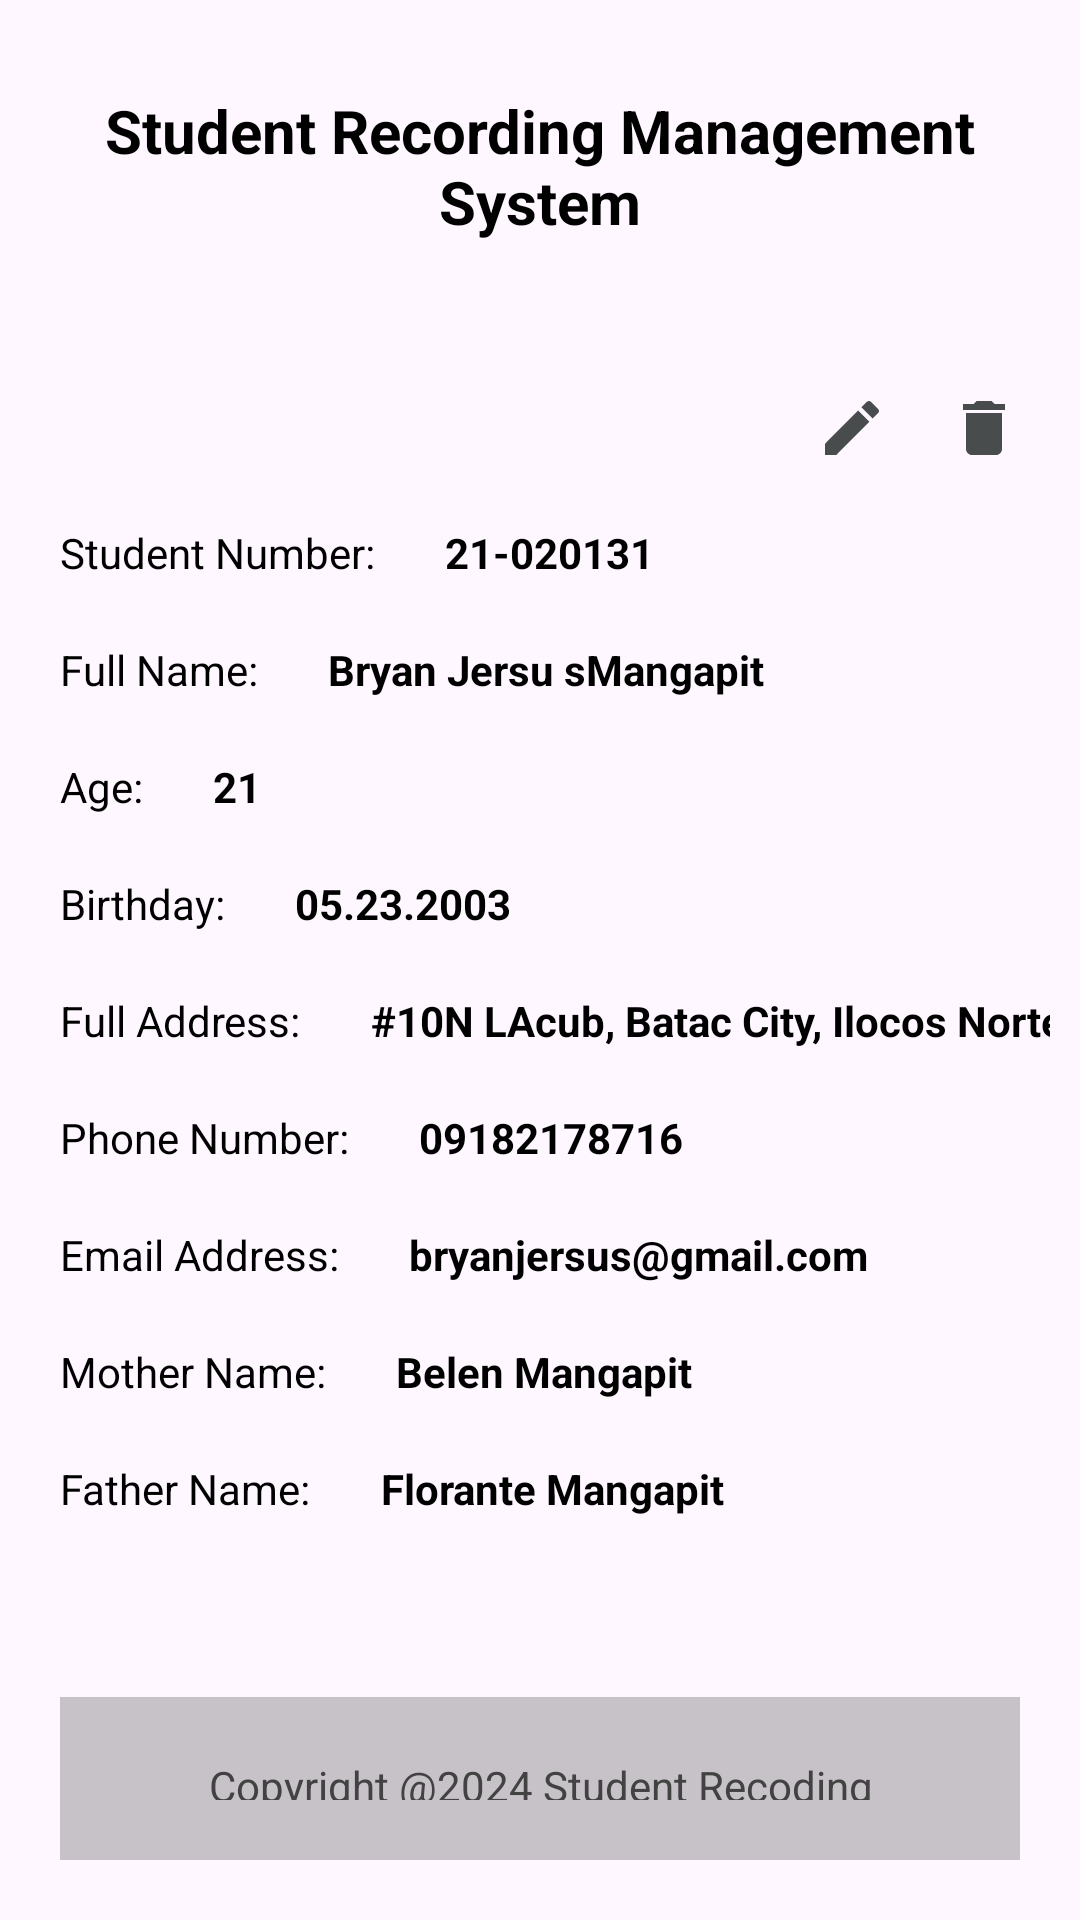

Locate icon controls on the screen. Image size 1080×1920, boxes as (x1, y1, x2, y2).
delete: (963, 401, 1005, 455)
edit: (825, 401, 879, 455)
